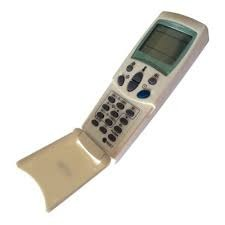remote control: (78, 2, 214, 163)
